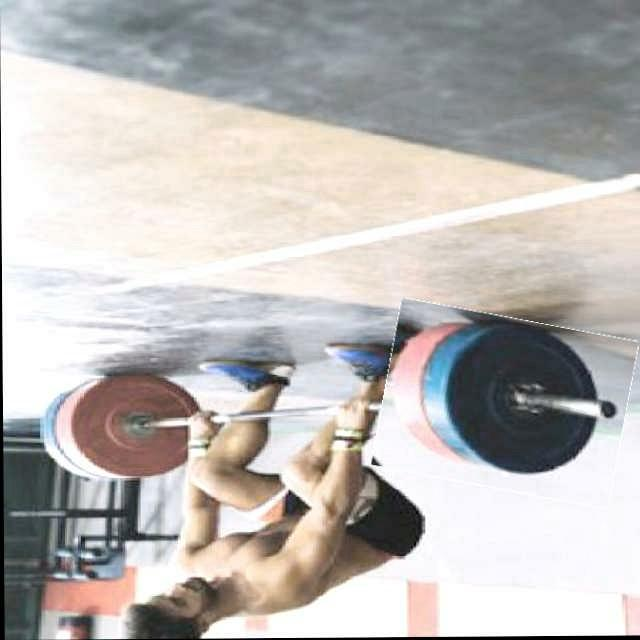barbell: (377, 308, 632, 500)
